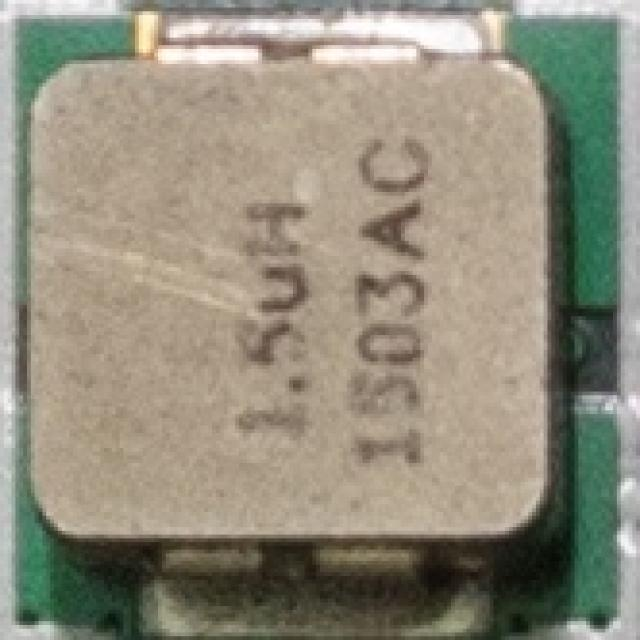inductor F1: (24, 32, 586, 616)
